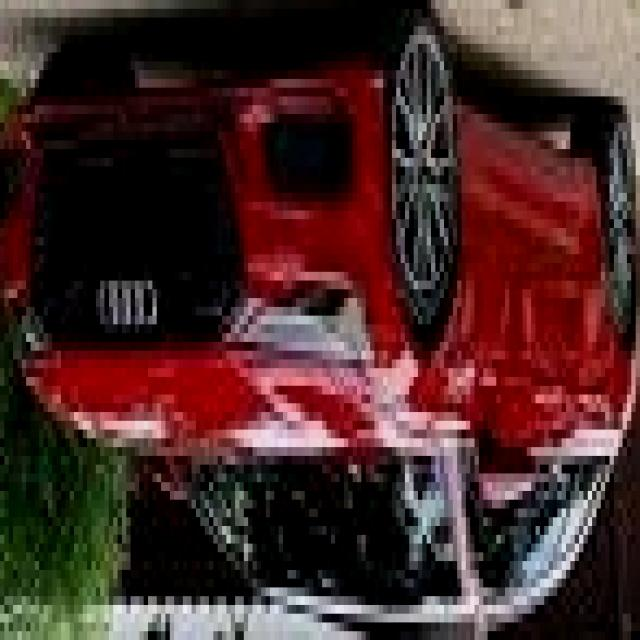red: (0, 68, 632, 626)
